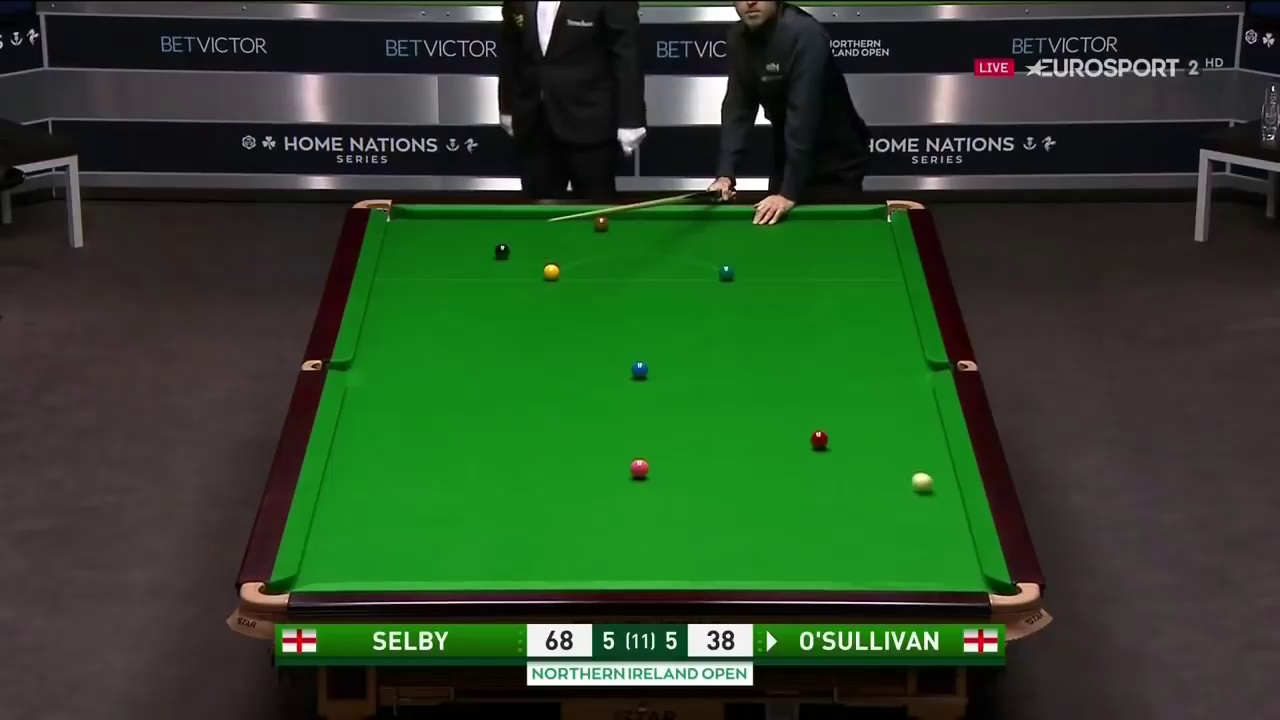black: (494, 242, 511, 259)
blue: (632, 361, 649, 378)
brown: (596, 215, 610, 230)
green: (716, 262, 735, 280)
pink: (628, 457, 649, 479)
red: (808, 430, 827, 451)
white: (911, 469, 931, 493)
yellow: (543, 263, 560, 282)
